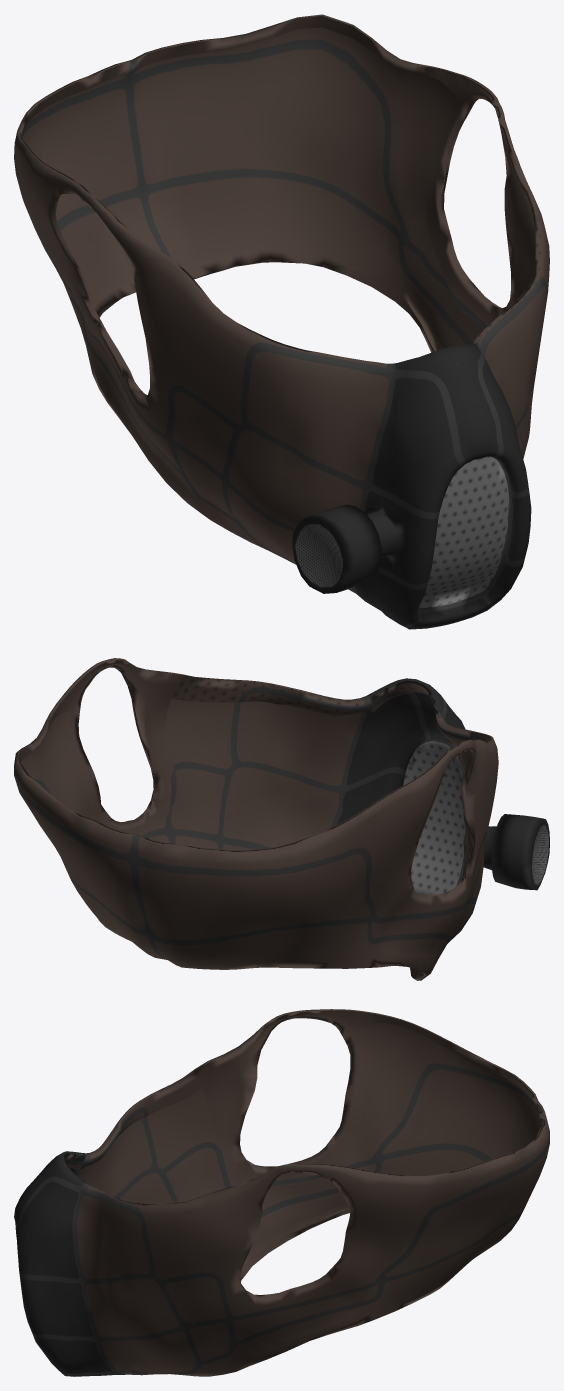
The model's file is facewear-dune-mask-01.glb.
The picture shows the model from 3 angles, top to bottom: view 1: azimuth 30°, elevation 25°; view 2: azimuth 150°, elevation 25°; view 3: azimuth 270°, elevation 25°; orthographic projection. The views are drawn at different scales.
Visible parts, largest first — view 1: Wolf3D_Facewear.002; view 2: Wolf3D_Facewear.002; view 3: Wolf3D_Facewear.002.
Part boxes in pixels (bbox=[...]): Wolf3D_Facewear.002: bbox=[14, 14, 549, 629]; Wolf3D_Facewear.002: bbox=[14, 658, 549, 980]; Wolf3D_Facewear.002: bbox=[14, 1009, 549, 1376].
Size of the model in its own units: 0.1701 by 0.1426 by 0.2488.
Materials: 1 (1 with a texture image).
